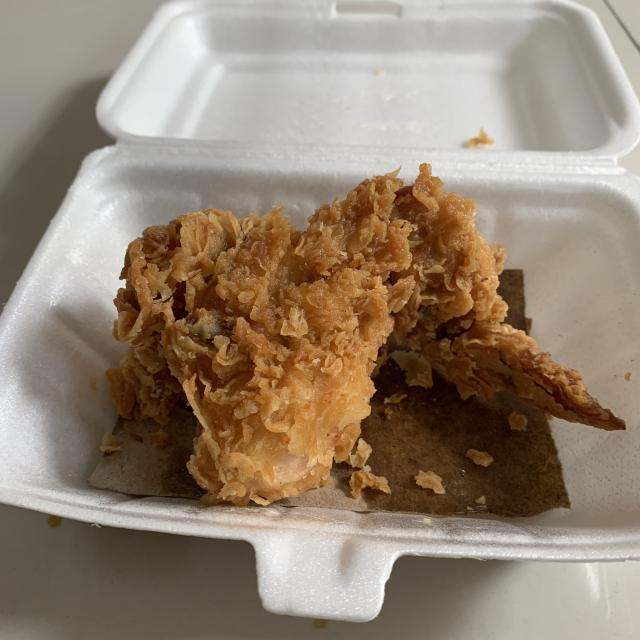Frango: (113, 172, 624, 518)
